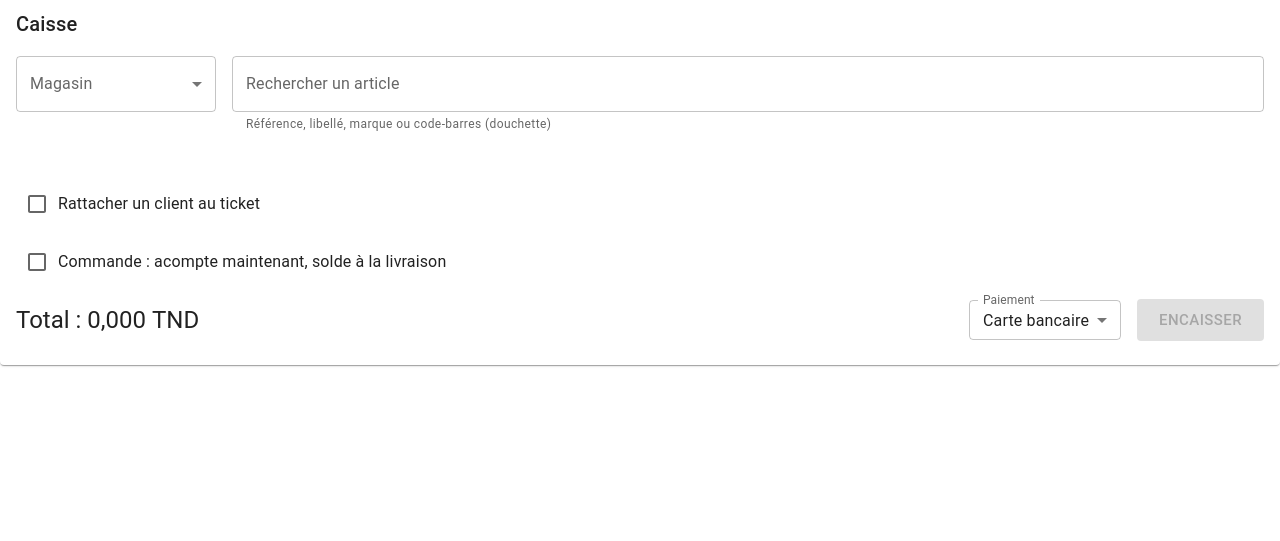
encaisse le panier en dinars et affiche le ticket
Type "mon" into the field labelled "Rechercher un article" at (748, 84), box [232,56,1264,112]
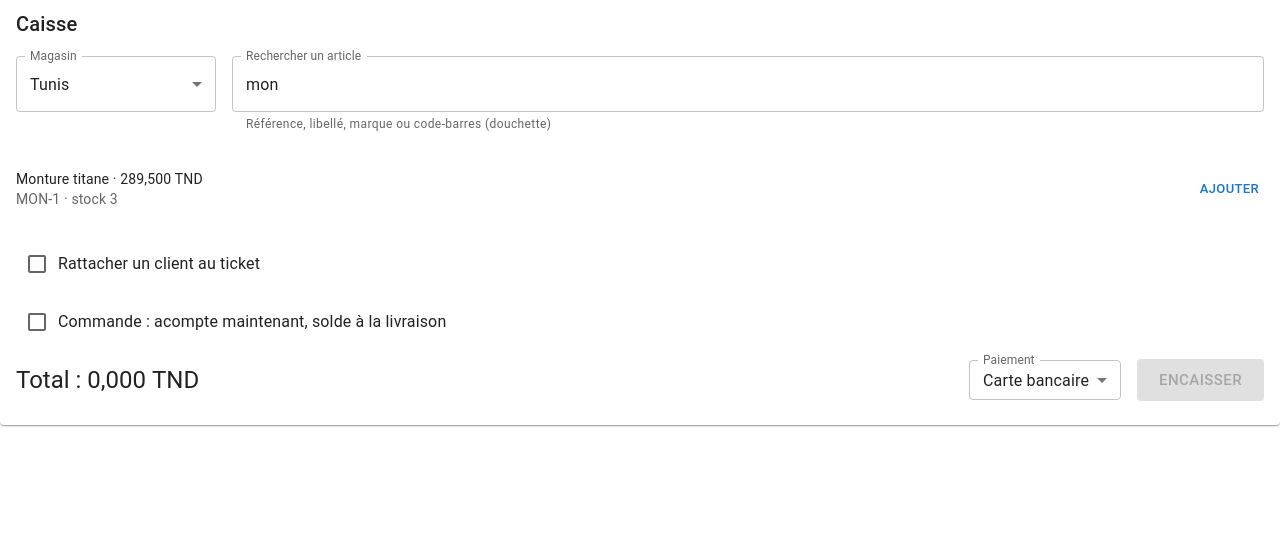
Click the button "Ajouter" at (1229, 189), box [1195,174,1264,204]
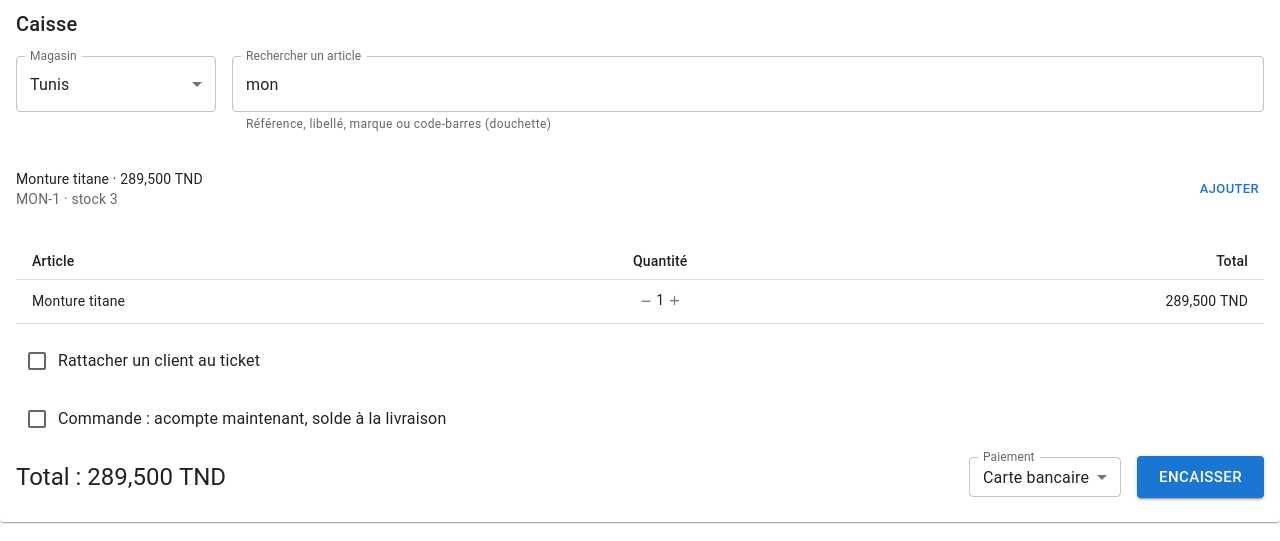
Click the button named "Ajouter un" at (674, 301), box [664,286,685,317]
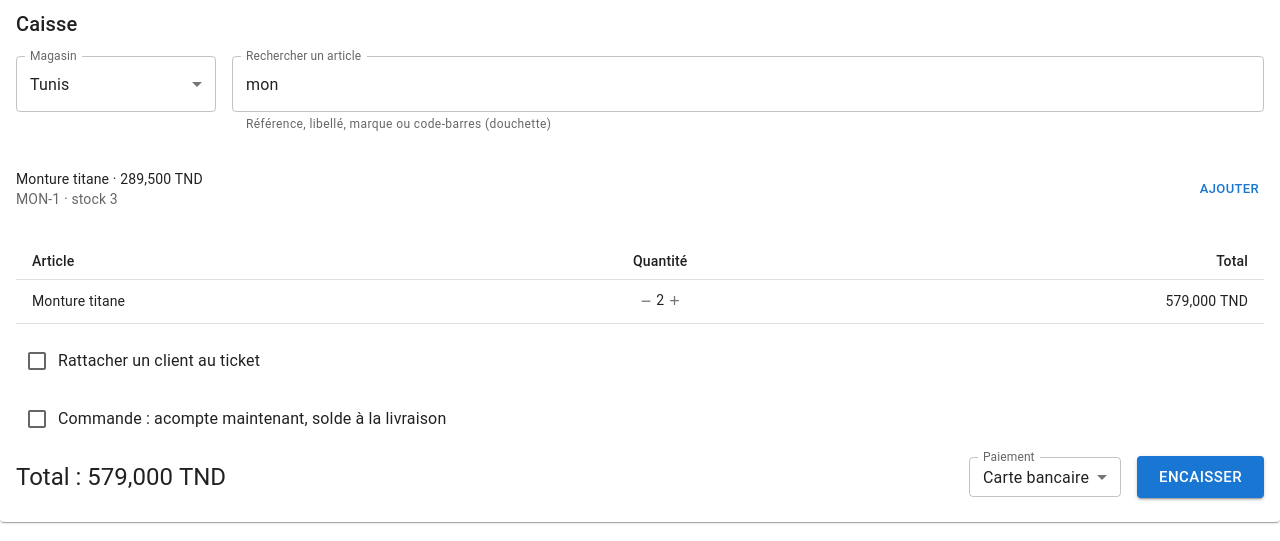
expect the heading "Total : 579,000 TND" is shown: met, box [16,463,226,491]
Click the button "Encaisser" at (1200, 477), box [1137,456,1264,498]
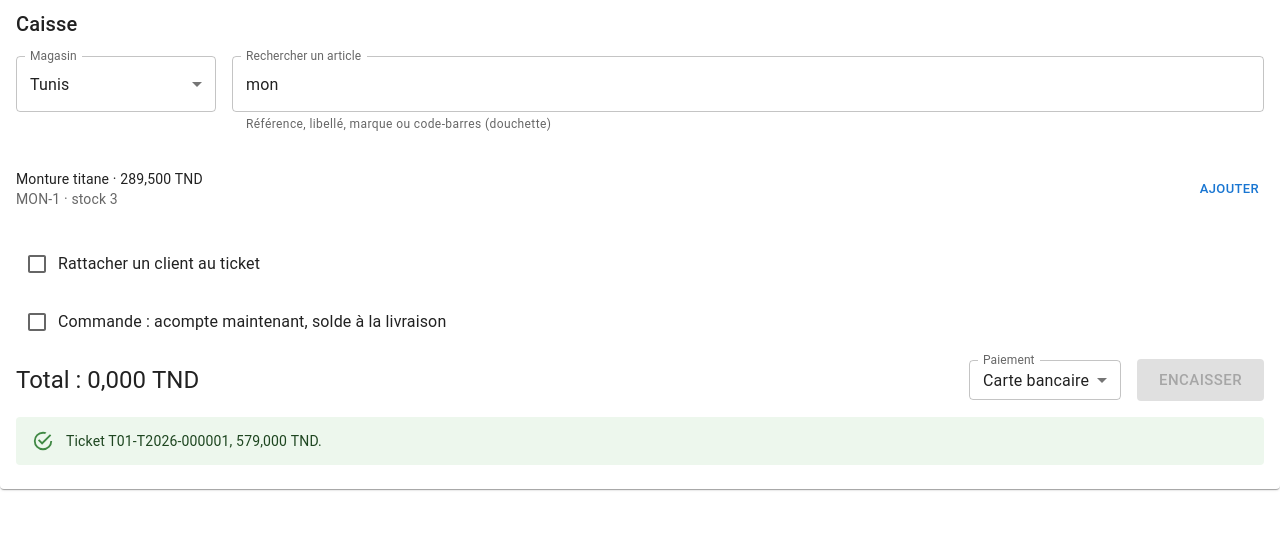
expect the text "Ticket T01-T2026-000001, 579,000 TND." is shown: met, box [66,433,322,449]
